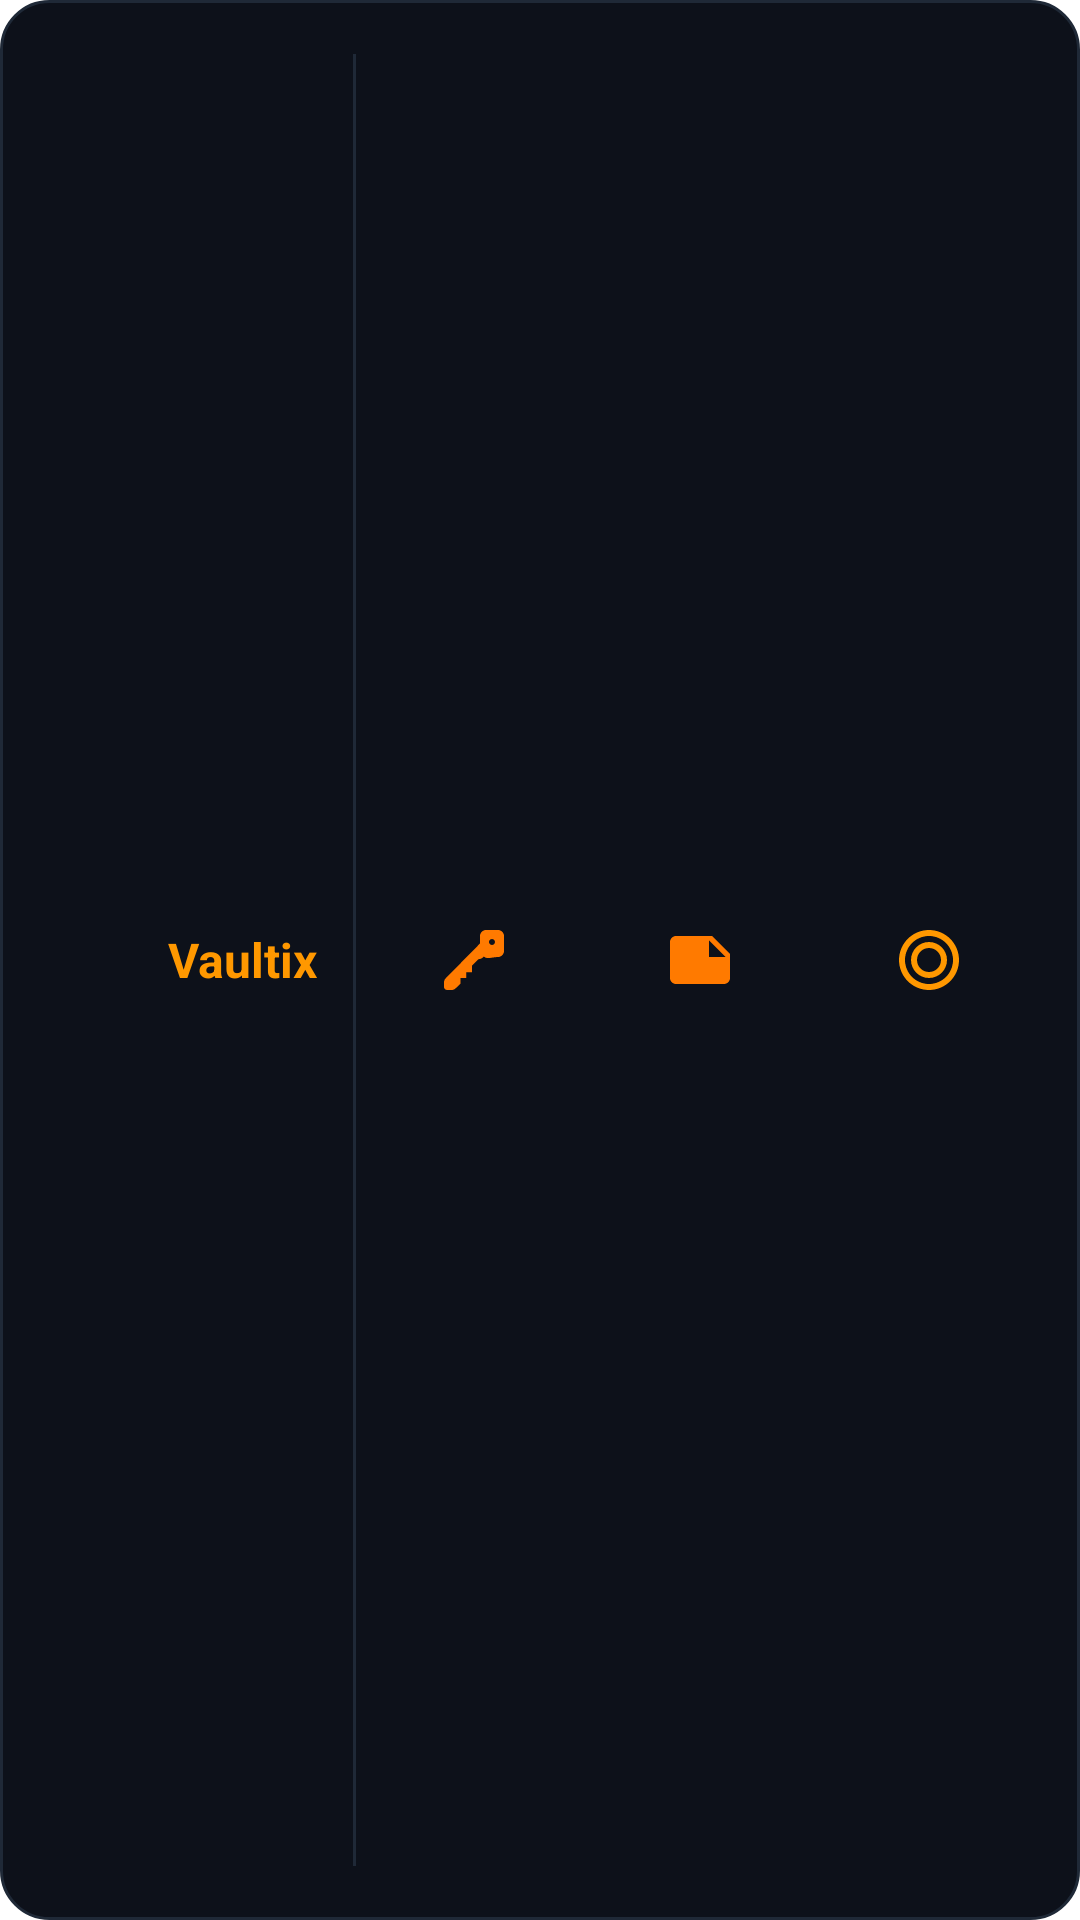

Named icons in this screenshot (1080px x 1920px) and their centers, [x,y]:
Add Note: [700,960]
Add Password: [474,960]
